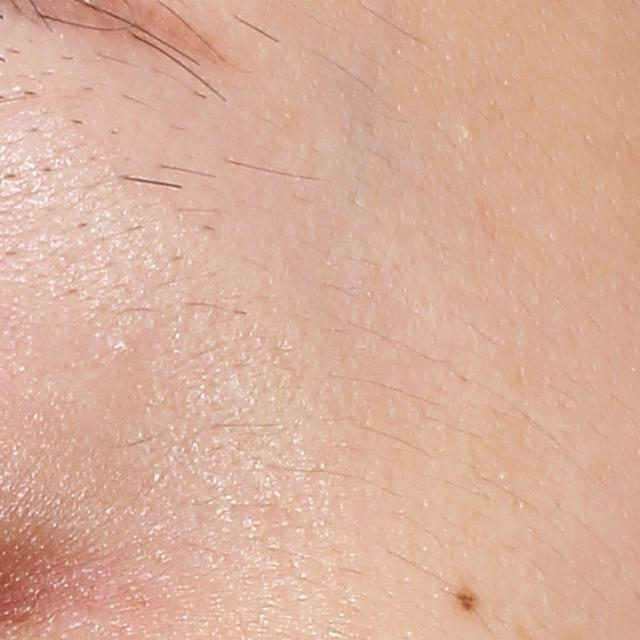comedo: (112, 336, 136, 358), (461, 127, 477, 142)
nevus: (458, 581, 480, 610)
